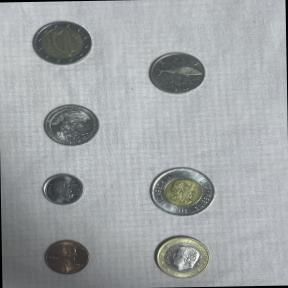1 Euro-B: (148, 232, 216, 284)
2 Euro-B: (24, 15, 98, 73)
Canada-10cent-B: (35, 169, 89, 210)
Canada-2Dollar-B: (142, 162, 224, 222)
Croatia-2Kune-B: (144, 46, 212, 100)
US-1cent-B: (40, 235, 95, 278)
US-25cent-B: (37, 100, 105, 150)
